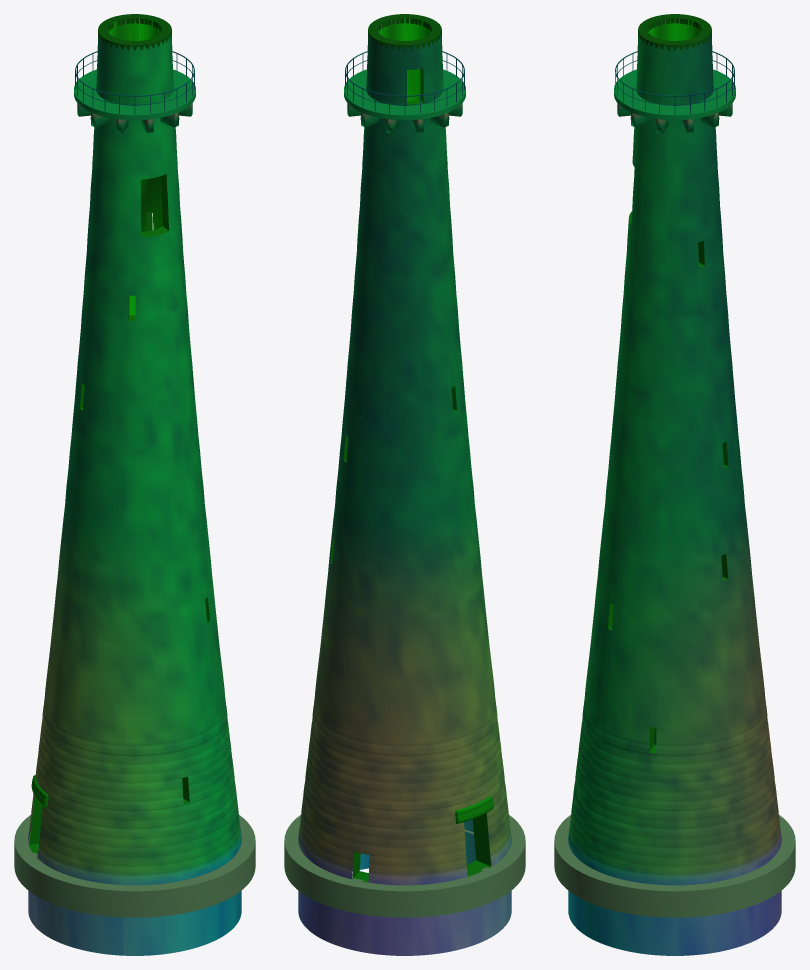
File: coilspire_shell.glb
3 renders of one model, left to right at view 1: azimuth 30°, elevation 25°; view 2: azimuth 150°, elevation 25°; view 3: azimuth 270°, elevation 25°, orthographic.
Parts seen in each view (by area): view 1: coilspire_shell; view 2: coilspire_shell; view 3: coilspire_shell.
Part boxes in pixels (left/top/right/bottom): coilspire_shell: left=14, top=14, right=255, bottom=955; coilspire_shell: left=284, top=14, right=525, bottom=955; coilspire_shell: left=554, top=14, right=795, bottom=955.
Size of what is drawn, in the model's own units: 12.4 by 50 by 12.4.
